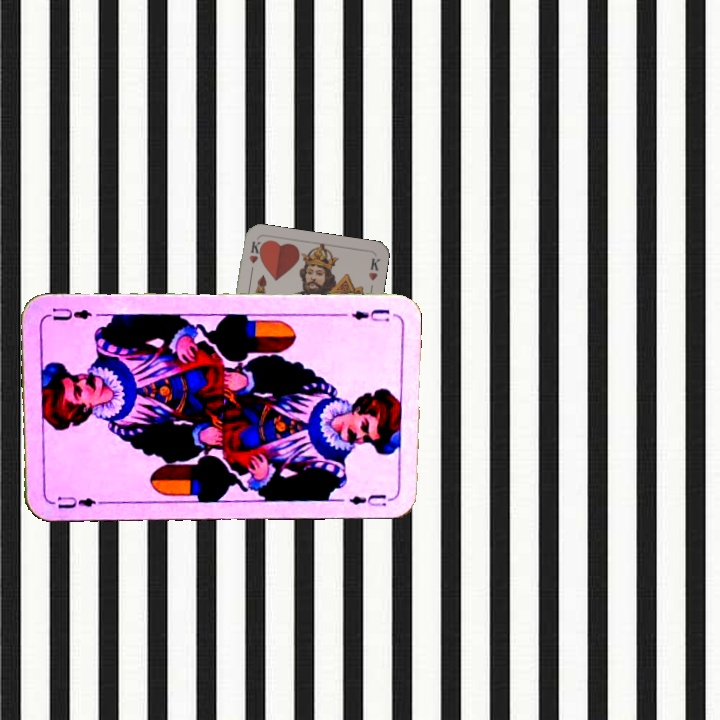EU: (47, 492, 106, 511), (348, 304, 393, 324)
HK: (245, 237, 264, 278)
